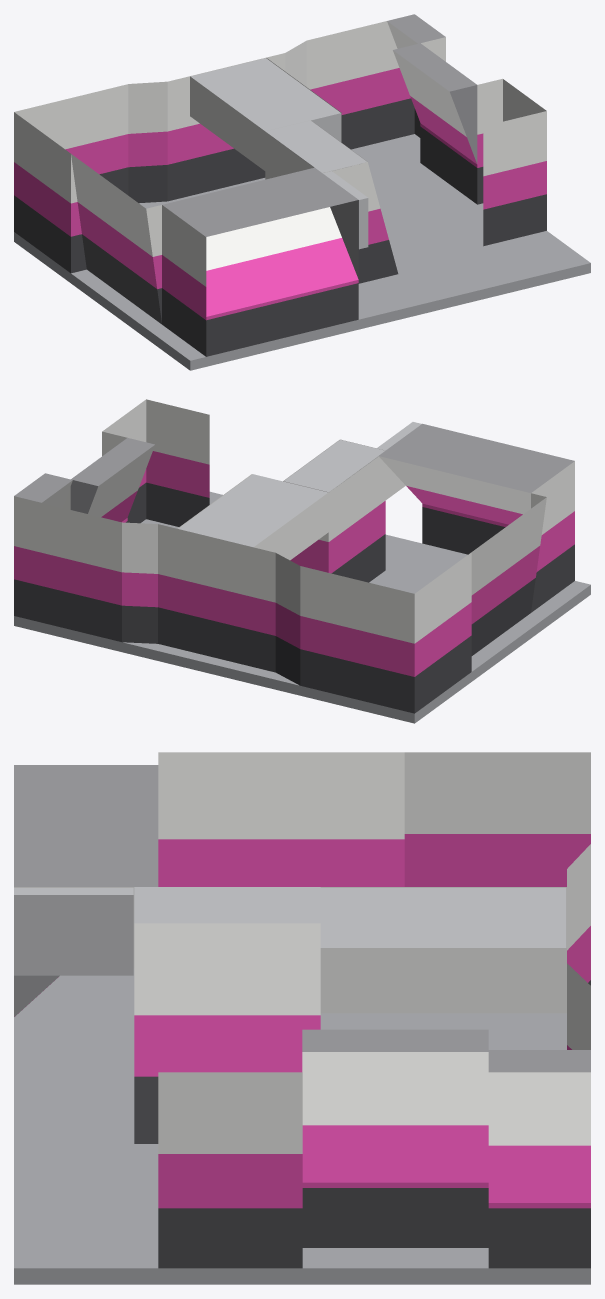
The model's file is hangout_blockout.glb.
3 views of the same model, one above another, from view 1: azimuth 30°, elevation 25°; view 2: azimuth 150°, elevation 25°; view 3: azimuth 270°, elevation 25° (orthographic). The views are drawn at different scales.
Visible parts, largest first — view 1: mats, W15_p1_1.20, W15_cap, block_bridge, W15_p0_0.00, W1_p2_2.40, W7_p2_2.40, W19_p0_2.40, W16_p2_2.40, W7_p0_0.00, block_box-top, W13_p2_2.40 (+46 smaller); view 2: mats, W15_cap, block_bridge, W1_p2_2.40, W7_p2_2.40, W1_p0_0.00, W7_p0_0.00, W1_p1_1.20, W7_p1_1.20, W4_p2_2.40, W4_p0_0.00, W15_p2_2.40 (+50 smaller); view 3: mats, W15_cap, W16_p2_2.40, W20_p0_2.40, block_bridge, W23_p2_2.40, W18_p2_2.40, W16_p1_1.20, W10_p0_0.00, W10_p1_1.20, block_cave-arch, W10_p2_2.40 (+24 smaller).
Part boxes in pixels (x1,y1,x2,y2): mats: (14,134,590,370); W15_p1_1.20: (206,238,358,316); W15_cap: (162,167,358,236); block_bridge: (191,58,341,141); W15_p0_0.00: (206,283,358,356); W1_p2_2.40: (14,84,128,141); W7_p2_2.40: (306,21,397,80); W19_p0_2.40: (190,76,265,170); W16_p2_2.40: (71,154,151,246); W7_p0_0.00: (341,98,414,149); block_box-top: (265,120,366,172); W13_p2_2.40: (483,111,546,166); mats: (14,491,590,723); W15_cap: (379,423,574,492); block_bridge: (178,474,327,547); W1_p2_2.40: (300,566,414,633); W7_p2_2.40: (14,496,121,562); W1_p0_0.00: (300,649,414,713); W7_p0_0.00: (14,579,121,641); W1_p1_1.20: (300,616,414,673); W7_p1_1.20: (14,546,121,602); W4_p2_2.40: (177,529,253,587); W4_p0_0.00: (177,612,253,666); W15_p2_2.40: (379,456,530,510); mats: (14,969,590,1284); W15_cap: (14,765,158,886); W16_p2_2.40: (158,752,404,821); W20_p0_2.40: (320,948,566,1013); block_bridge: (320,887,566,947); W23_p2_2.40: (134,923,320,996); W18_p2_2.40: (404,752,590,817); W16_p1_1.20: (158,839,404,886); W10_p0_0.00: (302,1188,488,1247); W10_p1_1.20: (302,1125,488,1182); block_cave-arch: (14,887,133,975); W10_p2_2.40: (302,1052,488,1106).
Size of the model in its own units: 12.6 by 3.9 by 9.6.
